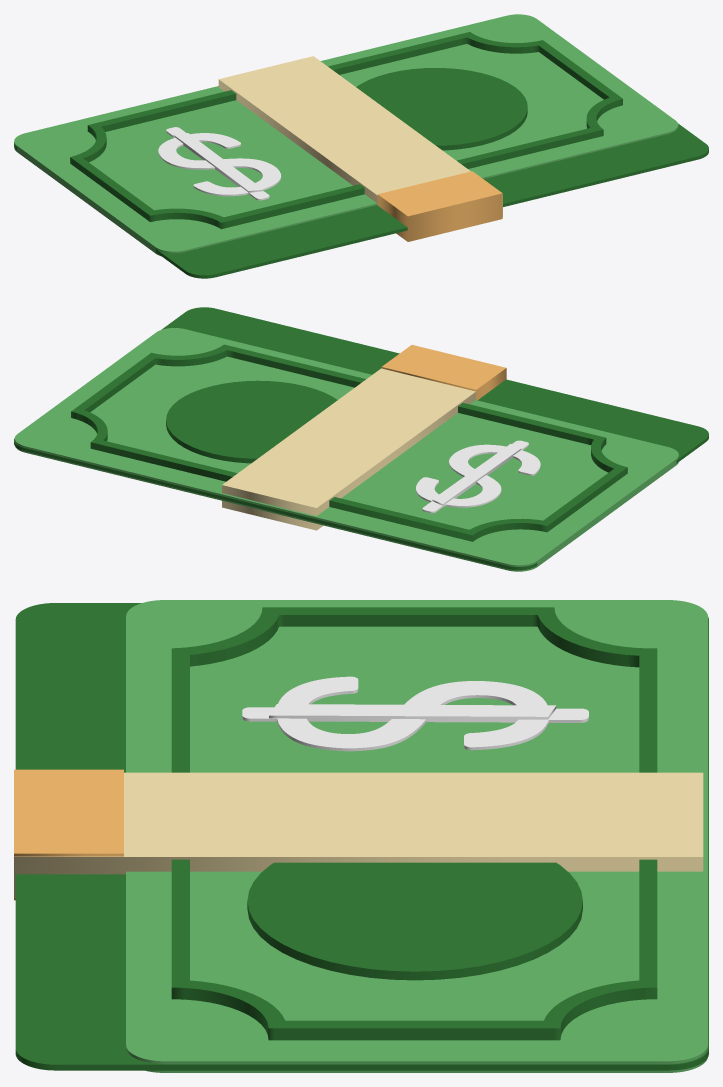
Rendered from emoji_u1f4b5.glb.
3 views of the same model, one above another, from view 1: azimuth 30°, elevation 25°; view 2: azimuth 150°, elevation 25°; view 3: azimuth 270°, elevation 25° (orthographic). The views are drawn at different scales.
Parts seen in each view (by area): view 1: emoji_u1f4b5; view 2: emoji_u1f4b5; view 3: emoji_u1f4b5.
Part boxes in pixels (left/top/right/bottom): emoji_u1f4b5: left=14, top=14, right=708, bottom=278; emoji_u1f4b5: left=14, top=307, right=708, bottom=571; emoji_u1f4b5: left=14, top=600, right=708, bottom=1072.
Bounding box in the file's own units: 0.0339 × 0.0016 × 0.0215.
